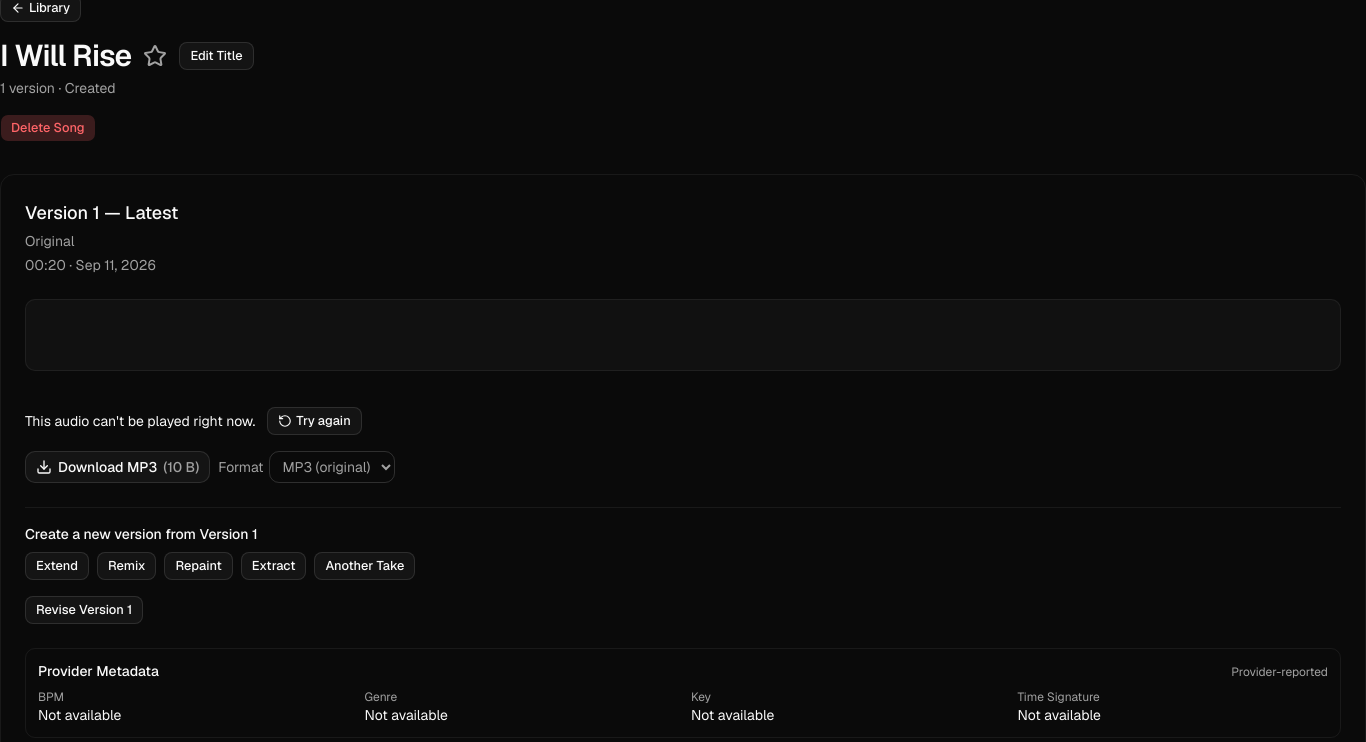
Test case: Version actions › Repaint shows a pre-filled default region and rejects it once cleared
Click the button "Repaint" at (199, 566), box [164,552,233,580]
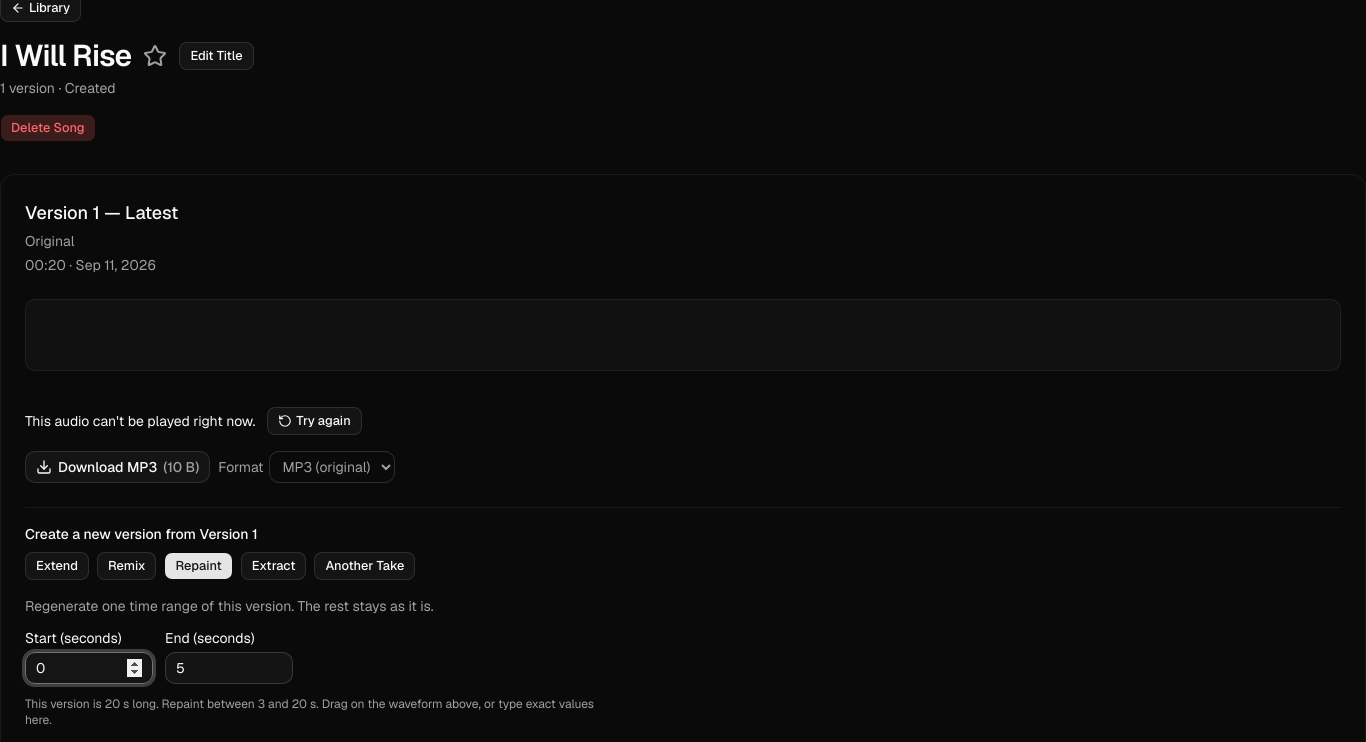
Now the number field labelled "Start (seconds)" holds "0"
Now the number field labelled "End (seconds)" holds "5", box [165,652,293,684]
Clear the number field labelled "Start (seconds)" at (89, 668), box [25,652,153,684]
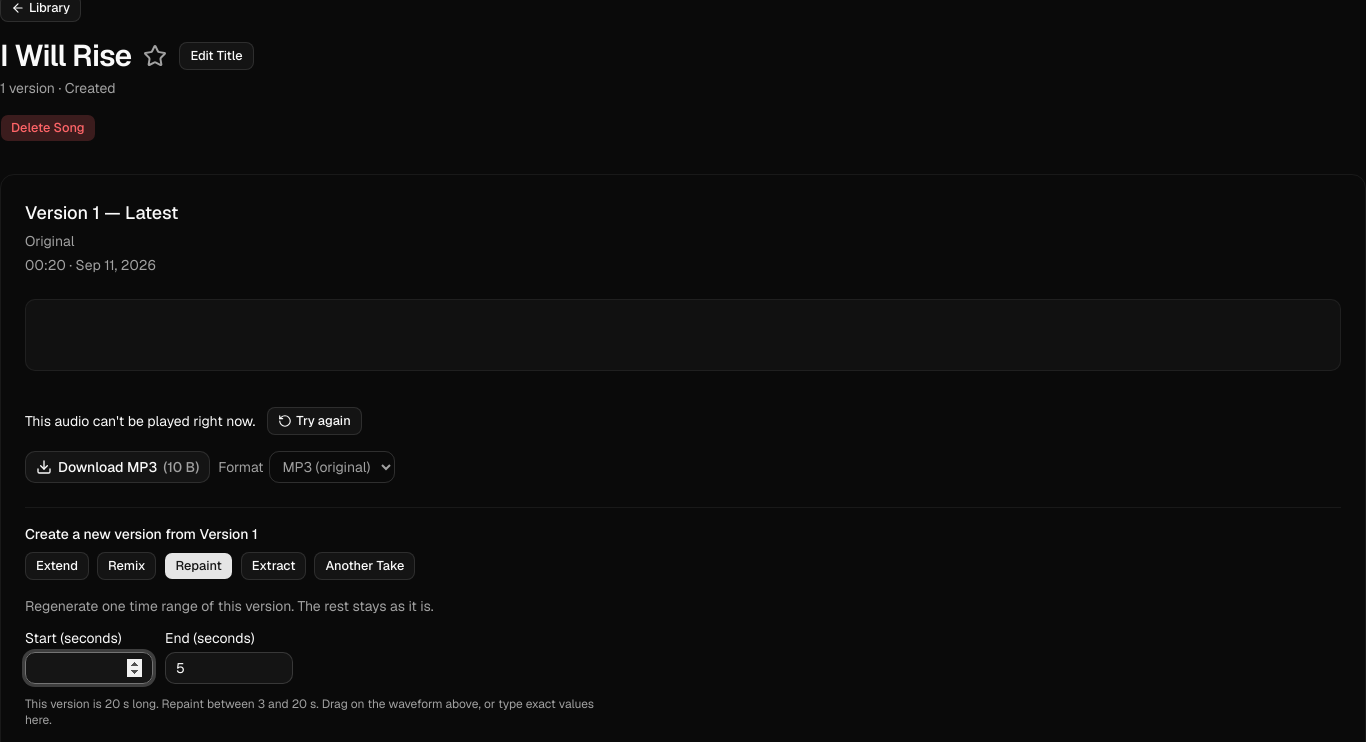
Clear the number field labelled "End (seconds)" at (229, 668), box [165,652,293,684]
(page scrolled)
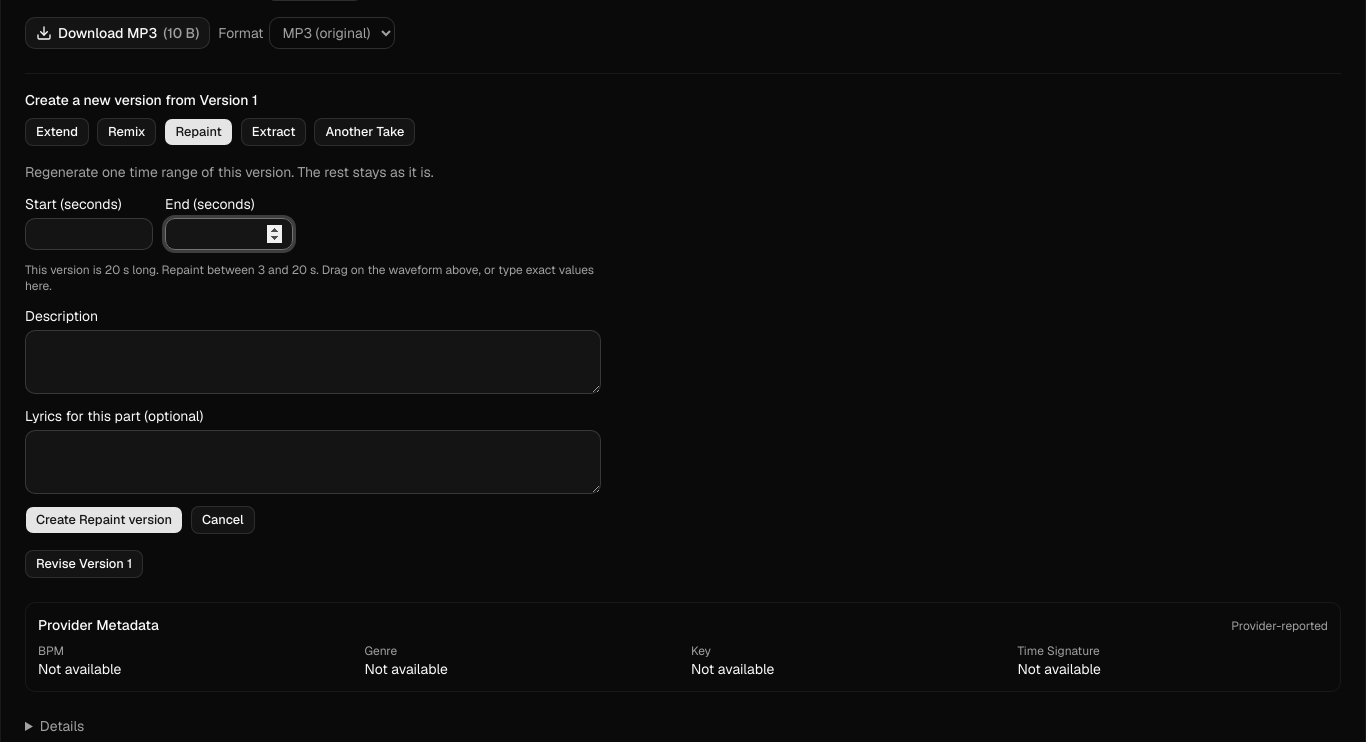
Type "drums" into the text box labelled "Description" at (313, 362), box [25,330,601,394]
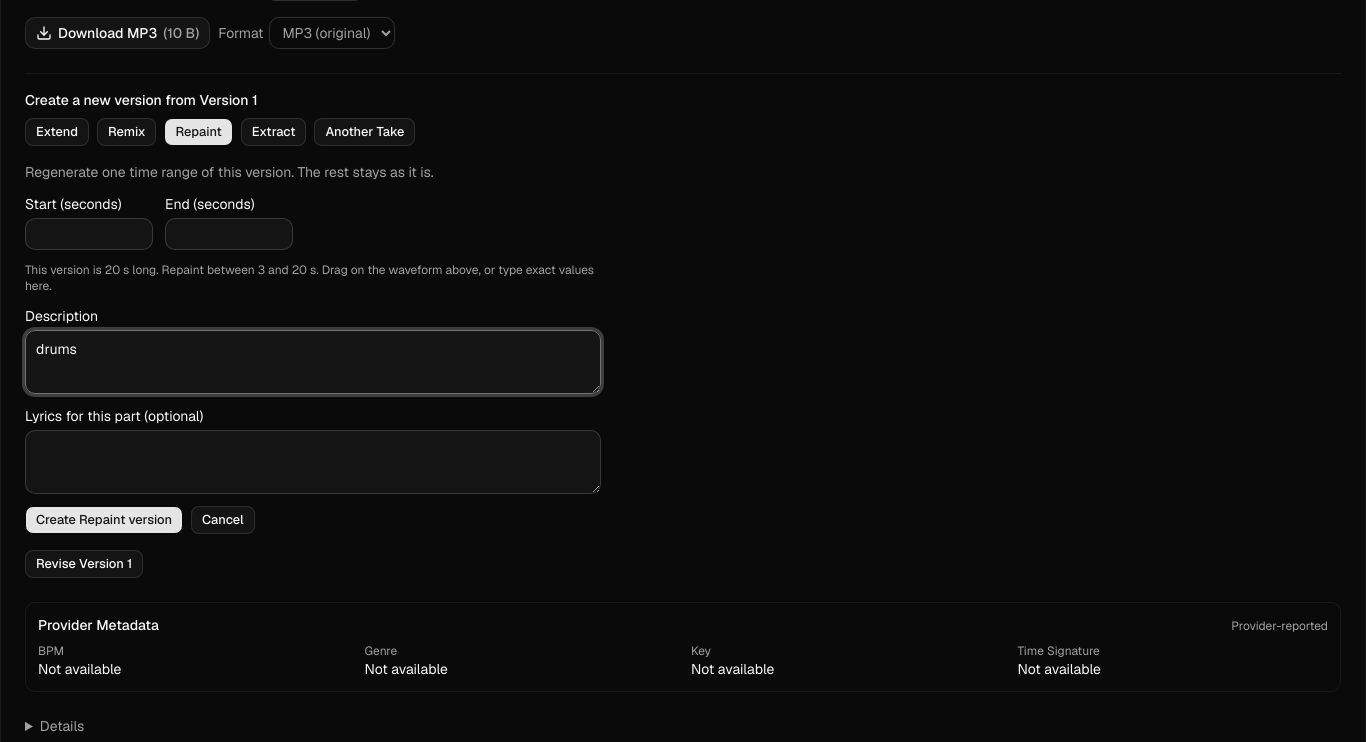
Click the button "Create Repaint version" at (104, 520), box [25,506,183,534]
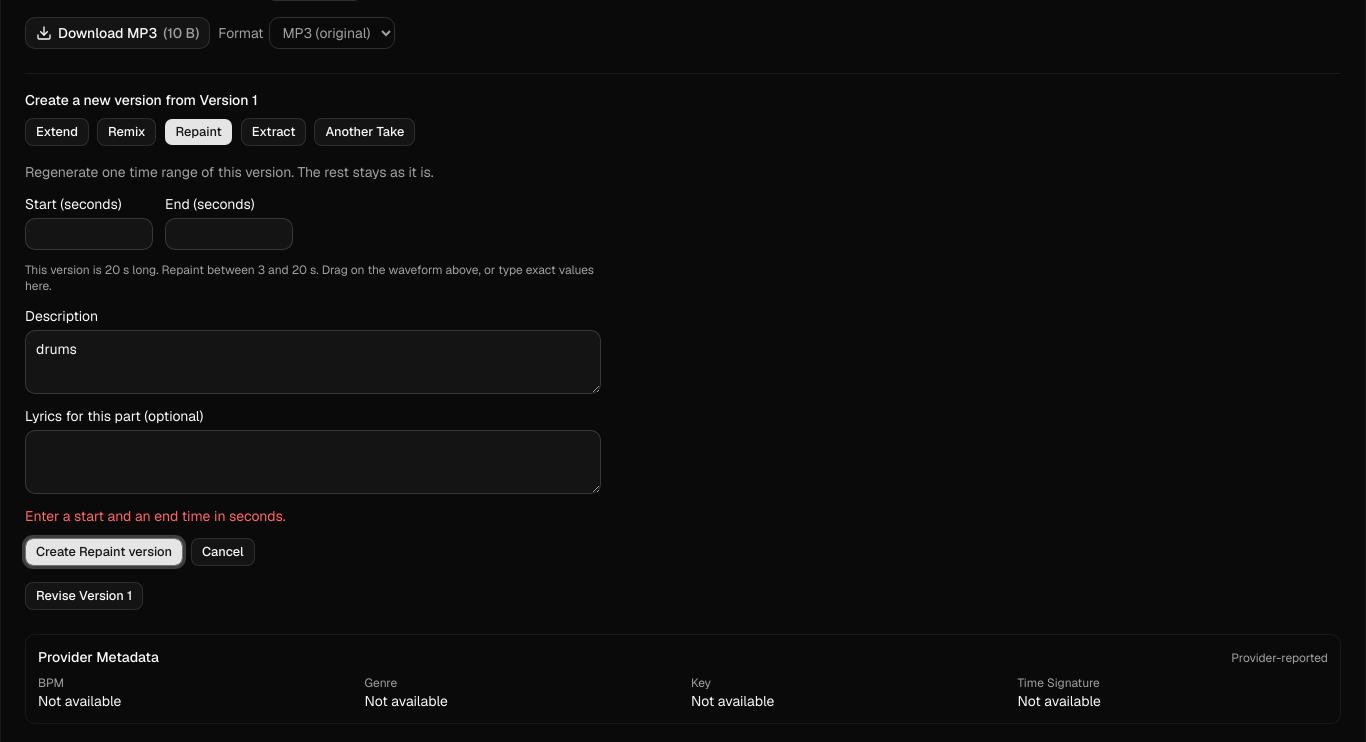
Now the message with test id "op-error" shows "Enter a start and an end", box [25,507,286,525]
